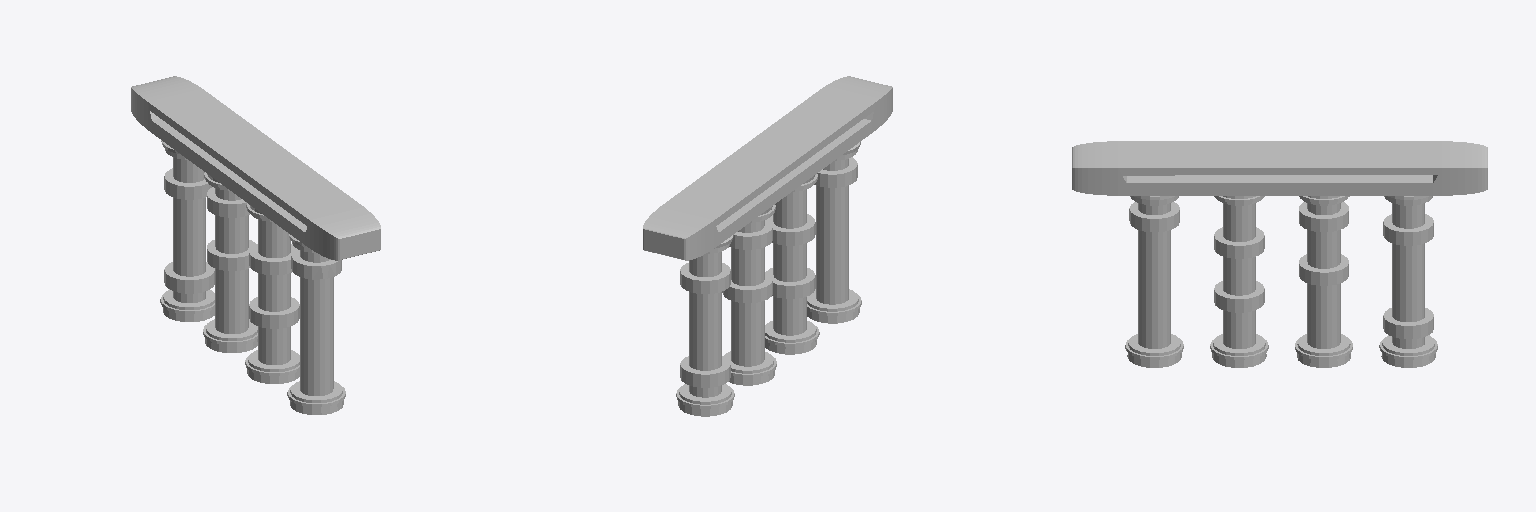
File: New_Column_Pipe.obj
3 views of the same model, side by side, from view 1: azimuth 30°, elevation 25°; view 2: azimuth 150°, elevation 25°; view 3: azimuth 270°, elevation 25° (orthographic).
Visible parts, largest first — view 1: Pipes.001_Cylinder.003; view 2: Pipes.001_Cylinder.003; view 3: Pipes.001_Cylinder.003.
Boxes of the visible parts, x1=… form: Pipes.001_Cylinder.003: x1=131, y1=76, x2=380, y2=414; Pipes.001_Cylinder.003: x1=643, y1=76, x2=892, y2=416; Pipes.001_Cylinder.003: x1=1072, y1=141, x2=1487, y2=367.
Bounding box in the file's own units: 3.78 × 13.4 × 24.85.